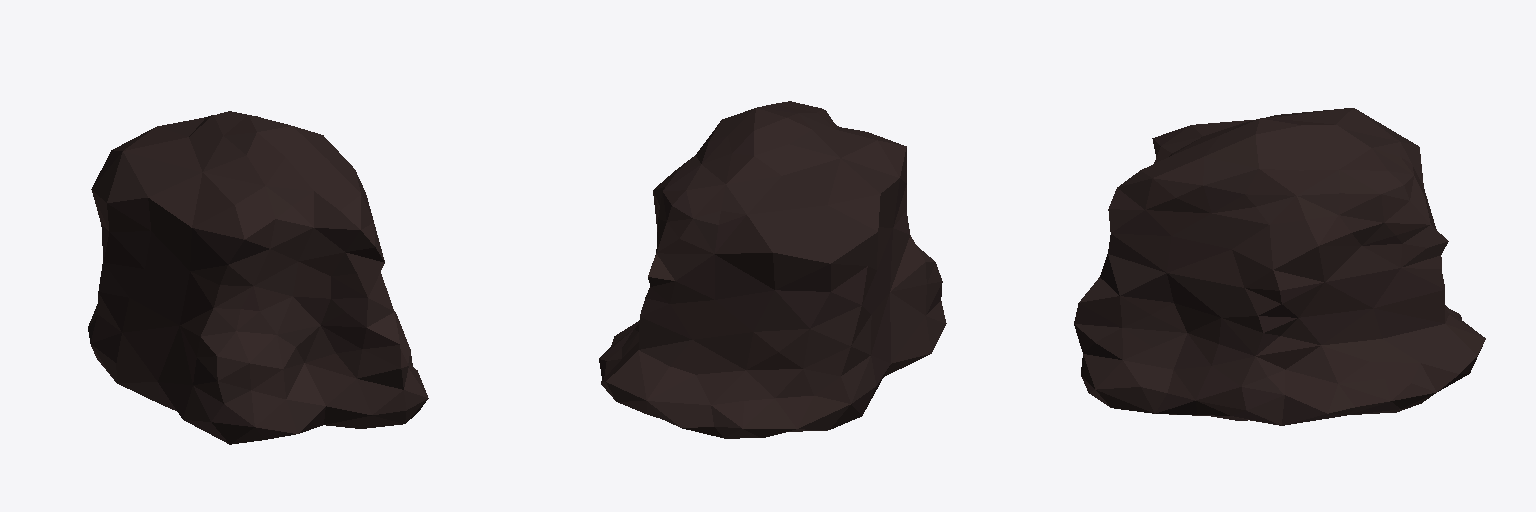
Rendered from Rock.obj.
The picture shows the model from 3 angles: view 1: azimuth 30°, elevation 25°; view 2: azimuth 150°, elevation 25°; view 3: azimuth 270°, elevation 25°; orthographic projection.
Visible parts, largest first — view 1: RockSet05G; view 2: RockSet05G; view 3: RockSet05G.
Boxes of the visible parts, x1,y1,x2,y2 form: RockSet05G: [88, 111, 428, 444]; RockSet05G: [599, 101, 946, 438]; RockSet05G: [1074, 108, 1485, 425].
Size of the model in its own units: 0.331 by 0.3251 by 0.4556.